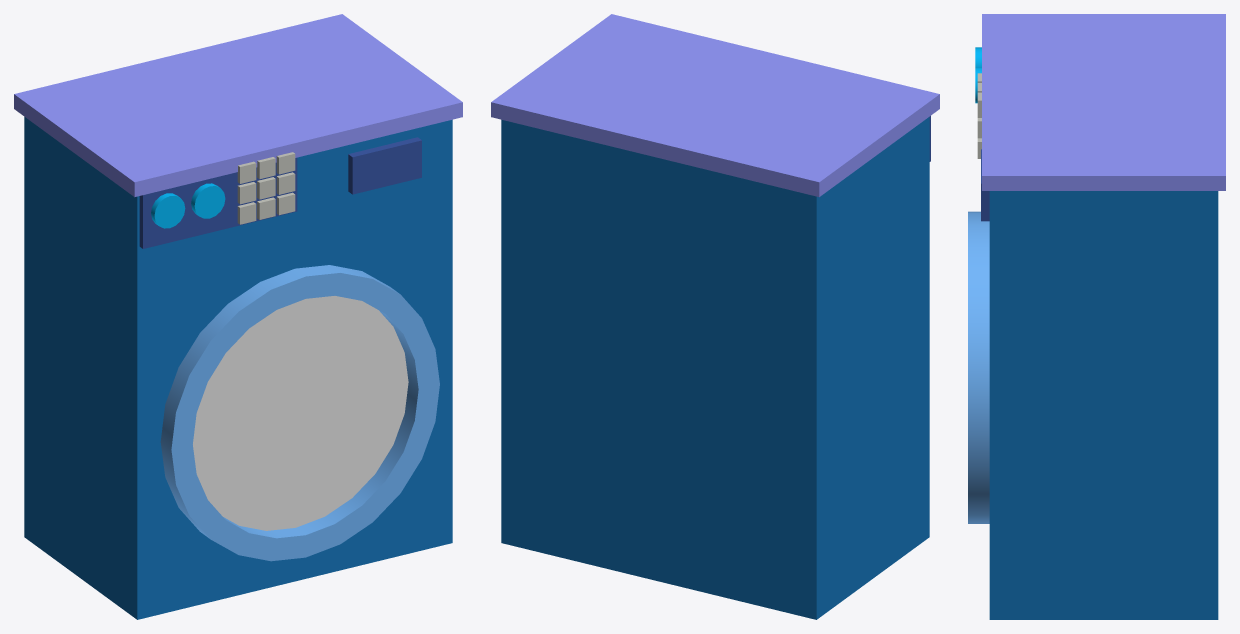
Rendered from 2_stiralka.fbx.
3 renders of one model, left to right at view 1: azimuth 30°, elevation 25°; view 2: azimuth 150°, elevation 25°; view 3: azimuth 270°, elevation 25°, orthographic.
Visible parts, largest first — view 1: 2 stiralka; view 2: 2 stiralka; view 3: 2 stiralka.
Part boxes in pixels (x1,y1,x2,y2): 2 stiralka: (14,14,462,619); 2 stiralka: (491,14,939,619); 2 stiralka: (968,14,1225,619).
Bounding box in the file's own units: 54.03 × 69.51 × 36.34.
